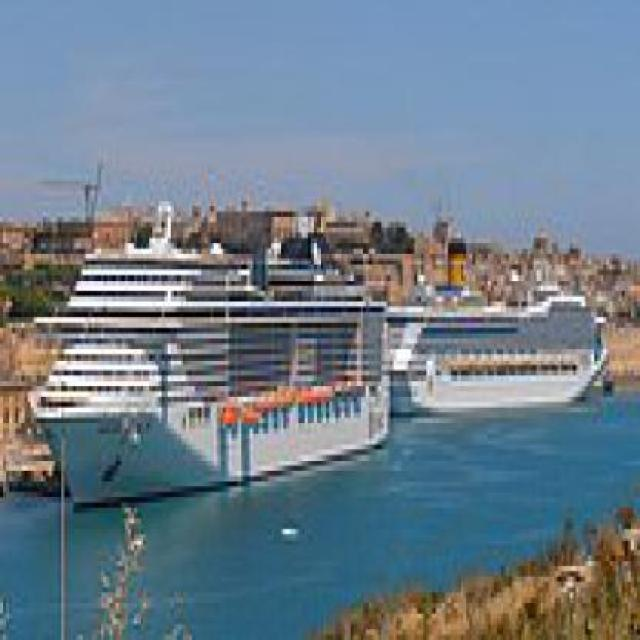cruise: (37, 207, 403, 515), (382, 276, 623, 424)
